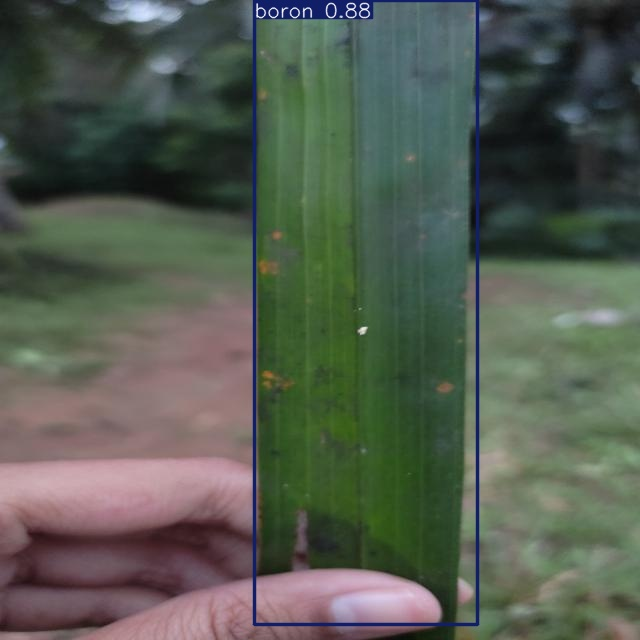nitrogen: (255, 0, 477, 625)
